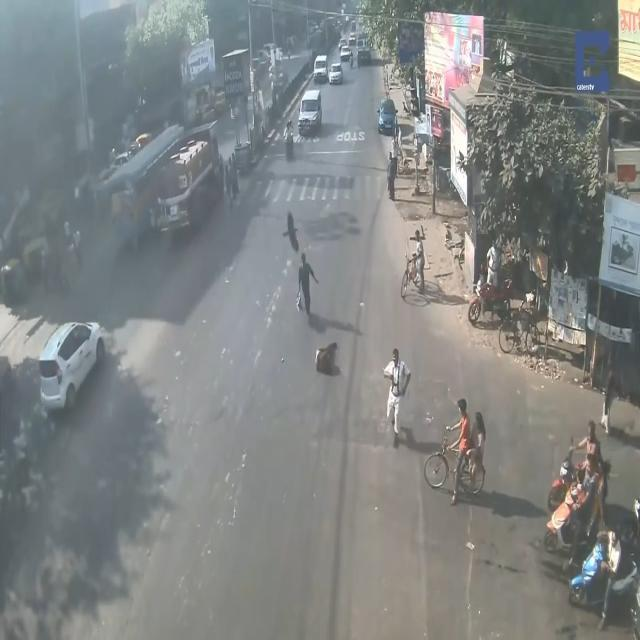accident: (313, 341, 337, 377)
